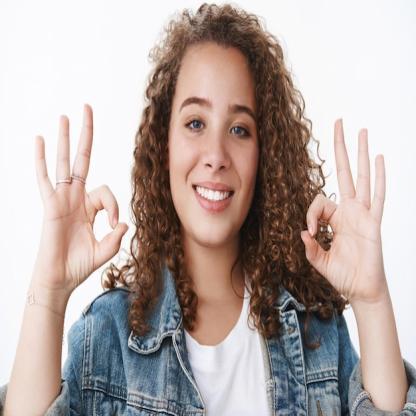ok: (31, 98, 129, 292), (299, 112, 388, 304)
